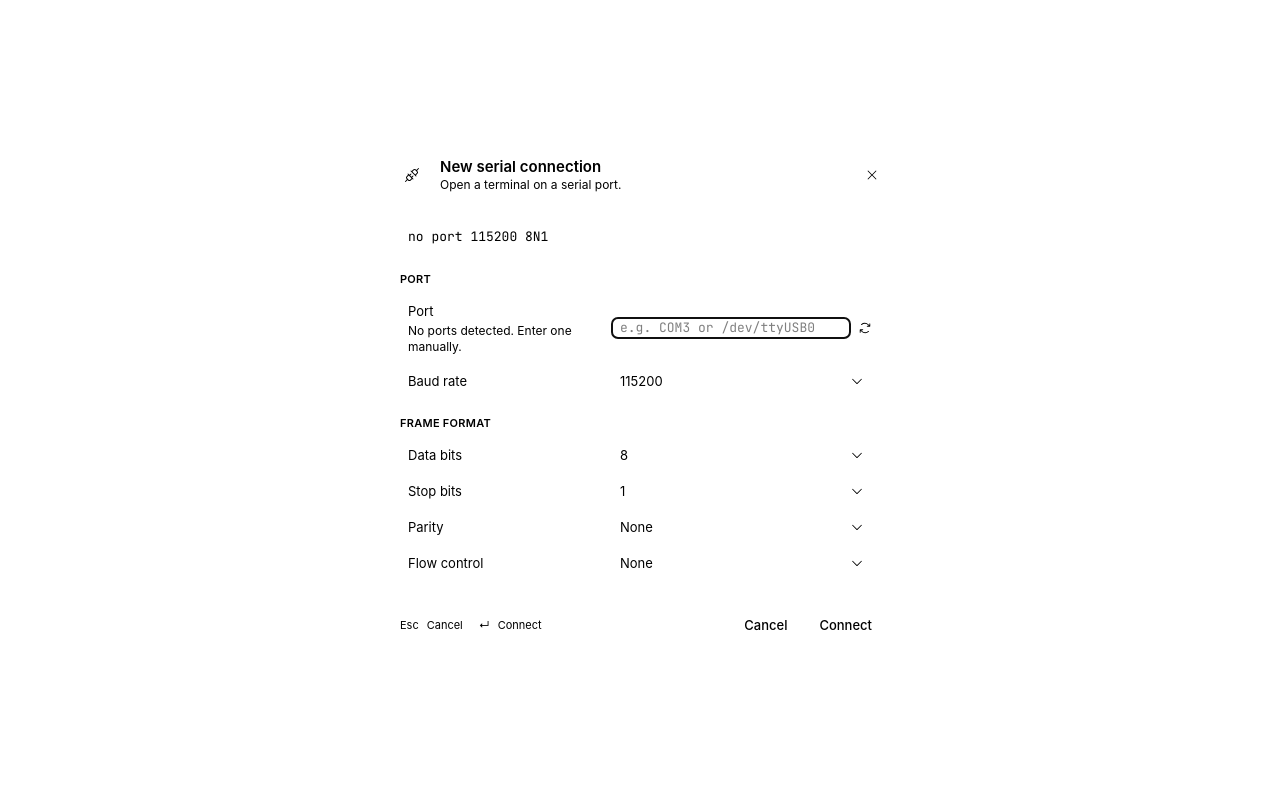
SerialDialog › shows title-case labels for every option list
Click the dropdown named "Parity".
click(636, 527)  # box x1=612 y1=517 x2=872 y2=537
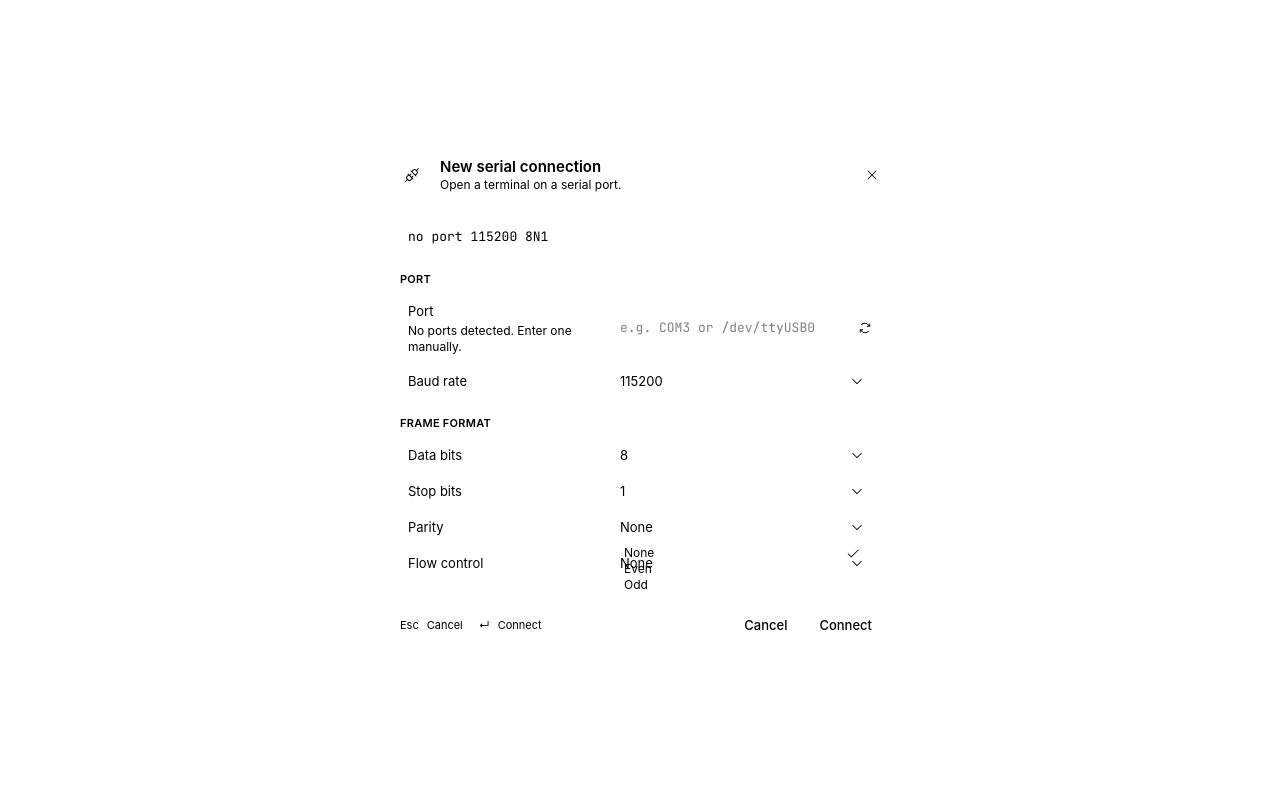
Result: the options read "None", "Even", "Odd", in this order at x1=616 y1=545 x2=868 y2=561; x1=624 y1=561 x2=652 y2=576; x1=624 y1=577 x2=648 y2=592
